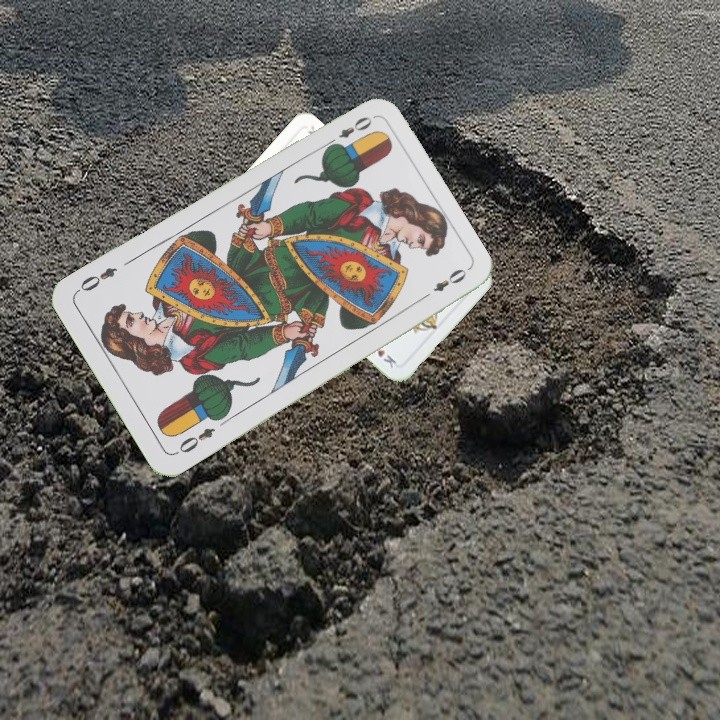EO: (322, 112, 375, 150), (171, 423, 218, 458)
